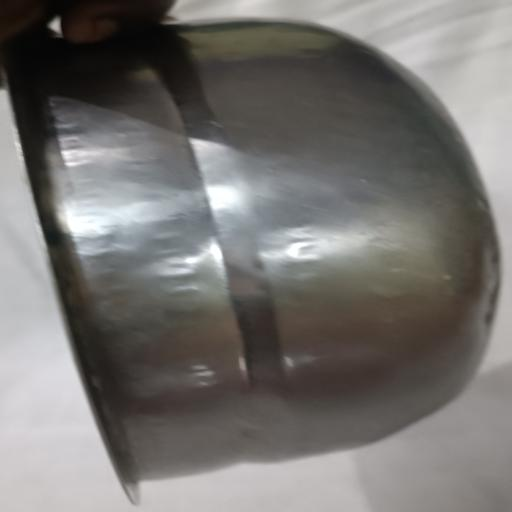vessel: (6, 21, 499, 502)
